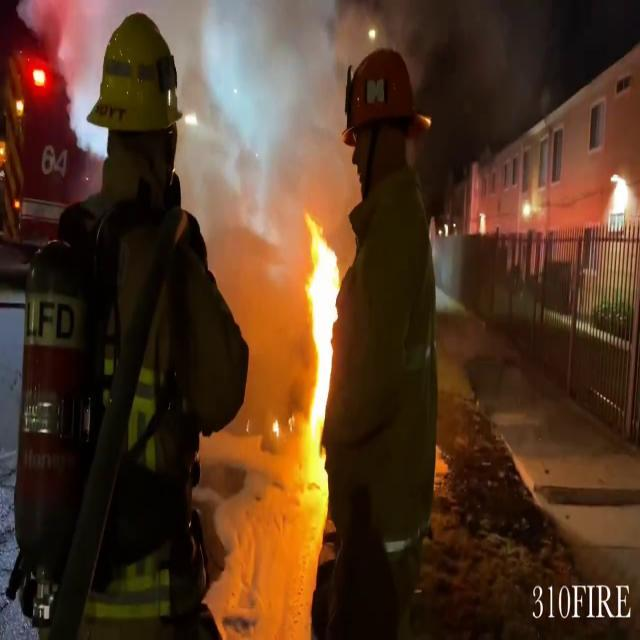Fire: (299, 204, 343, 473)
Smoke: (73, 0, 370, 256)
